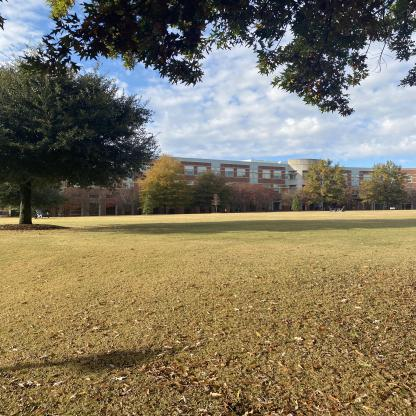EB-1: (30, 128, 400, 222)
